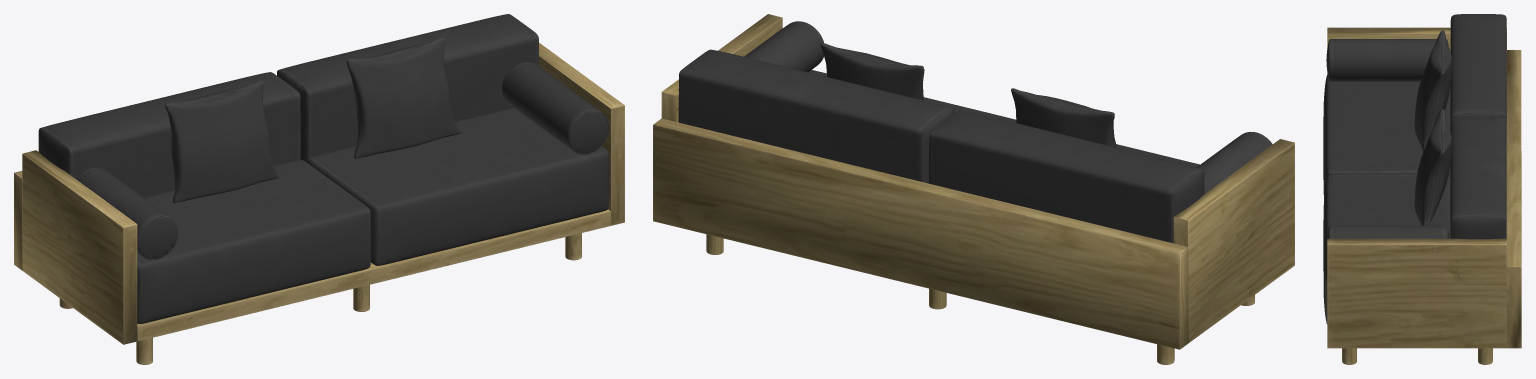
File: sofa_scandinavian_red_kaiser.glb
3 views of the same model, side by side, from view 1: azimuth 30°, elevation 25°; view 2: azimuth 150°, elevation 25°; view 3: azimuth 270°, elevation 25° (orthographic). The views are drawn at different scales.
Parts seen in each view (by area): view 1: defaultMaterial; view 2: defaultMaterial; view 3: defaultMaterial.
Part boxes in pixels (x1,y1,x2,y2): defaultMaterial: (14,14,624,364); defaultMaterial: (653,14,1294,364); defaultMaterial: (1323,14,1521,364).
Size of the model in its own units: 208 by 79.67 by 80.25.
Materials: 1 (1 with a texture image).
